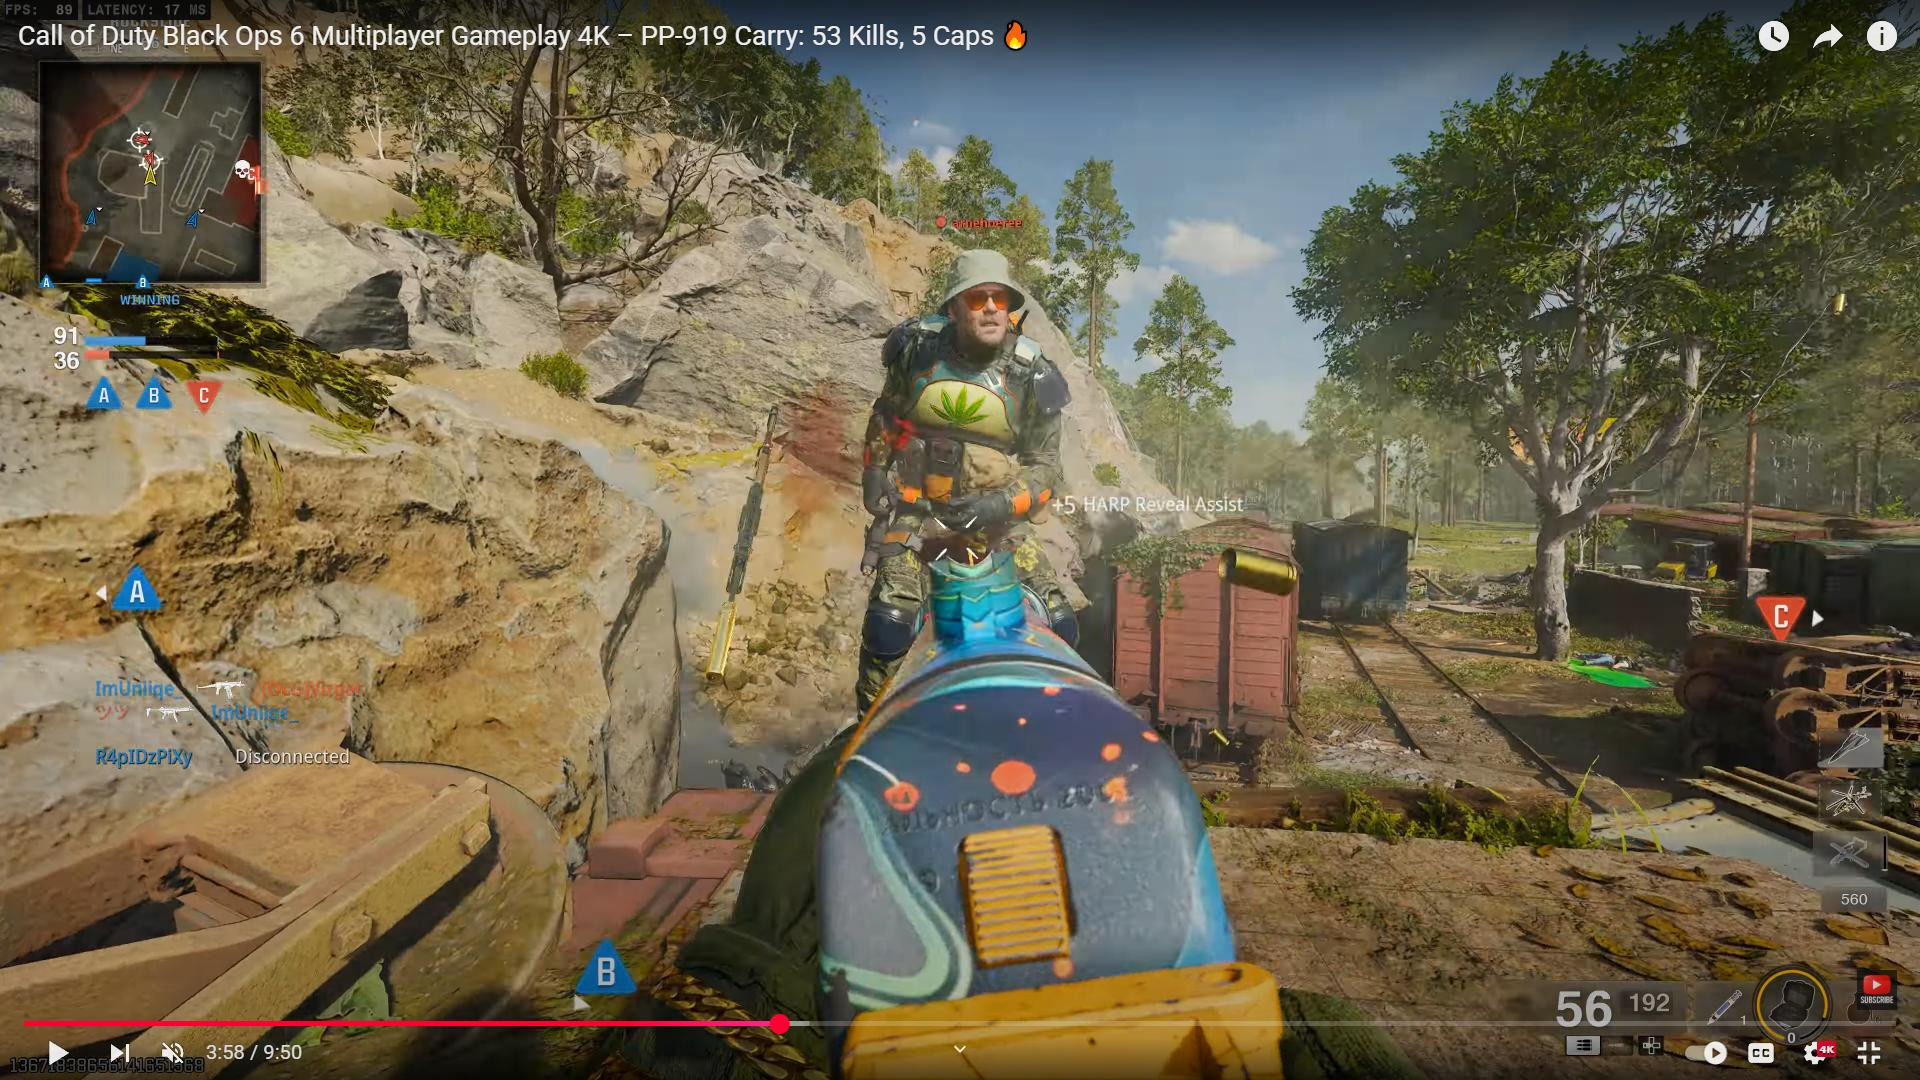Enemy: (839, 222, 1102, 533)
